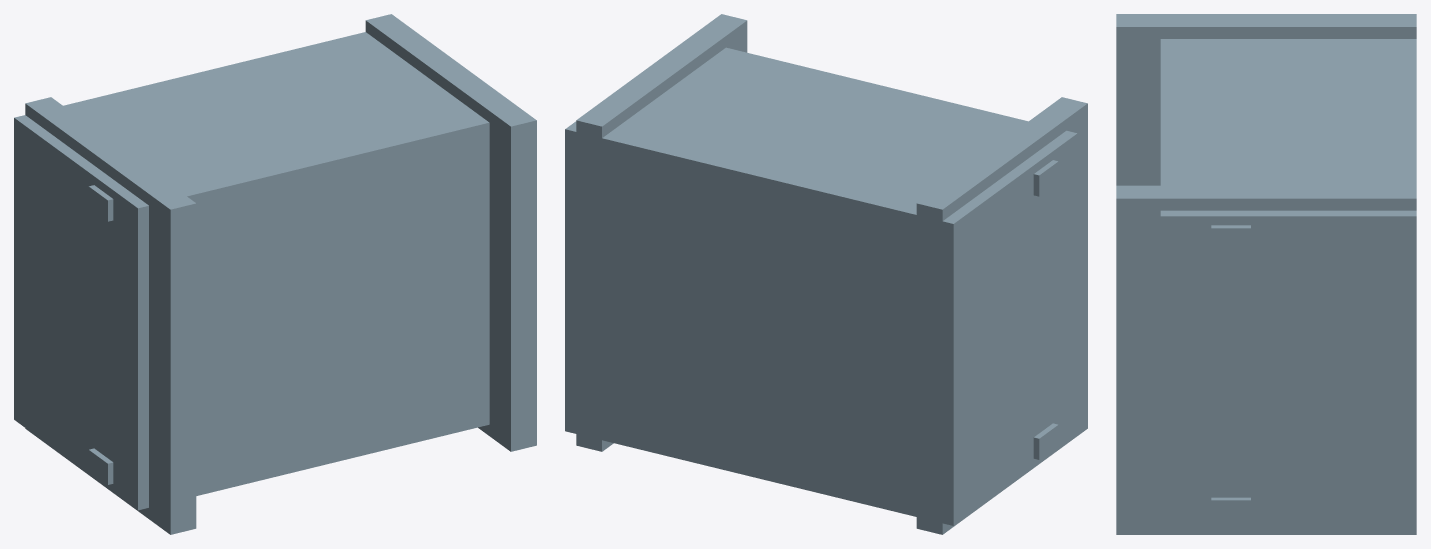
Rendered from industry-material-tote_lod1.glb.
3 renders of one model, left to right at view 1: azimuth 30°, elevation 25°; view 2: azimuth 150°, elevation 25°; view 3: azimuth 270°, elevation 25°, orthographic. The views are drawn at different scales.
Visible parts, largest first — view 1: world; view 2: world; view 3: world.
Part boxes in pixels (x1,y1,x2,y2): world: [14, 14, 536, 534]; world: [565, 14, 1087, 534]; world: [1116, 14, 1416, 534].
Bounding box in the file's own units: 1.08 × 0.84 × 0.68.
